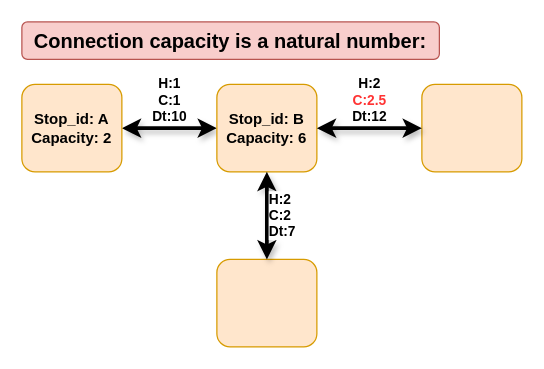
The diagram is 544 pixels wide and 369 high, and some of its shapes have lost their labels. The shapes that lost their labels are listed below. From the top down, each one's centre as x and y in pixels, then its label:
(471,127): Stop_id: C Capacity: 2
(266,302): Stop_id: D Capacity: 2
